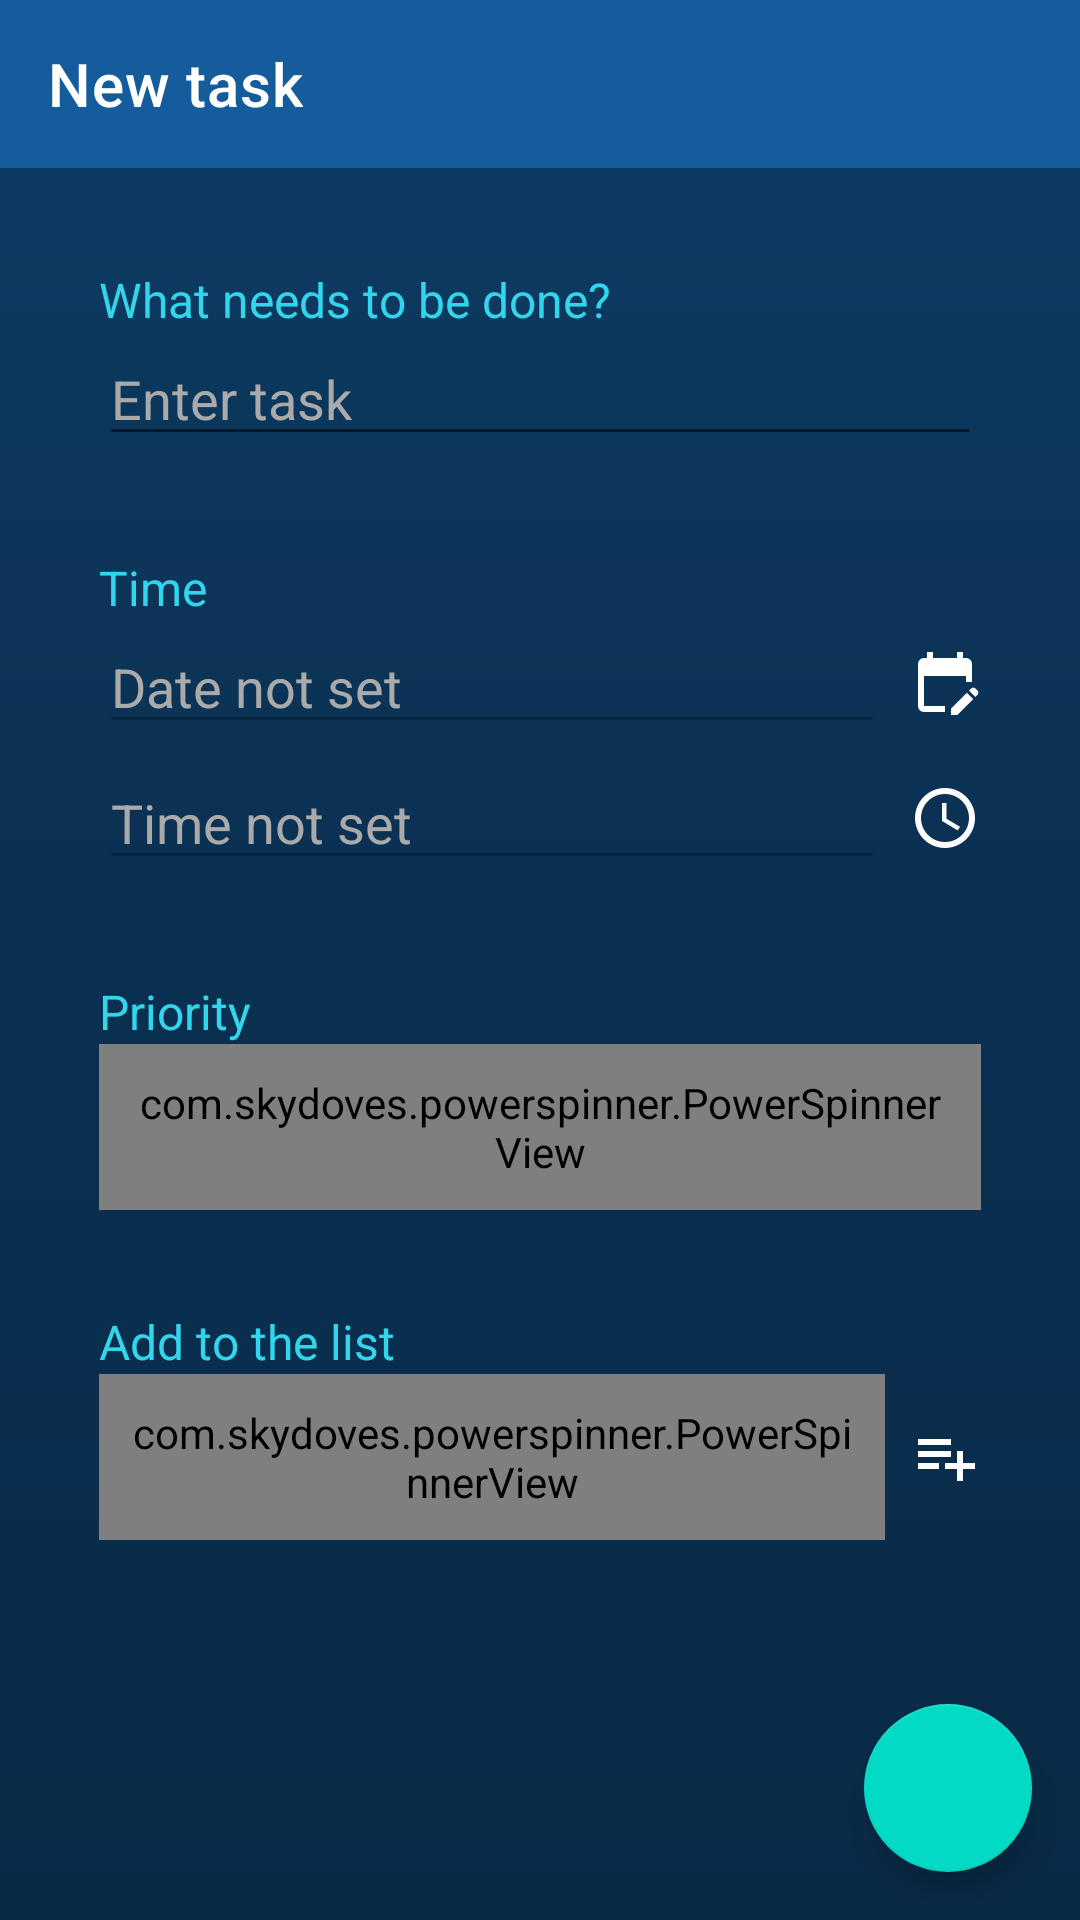

Named icons in this screenshot (1080 x 1920) and their centers, (x=x, y=y):
access time: (x=945, y=818)
edit calendar: (x=948, y=683)
playlist add: (x=946, y=1460)
